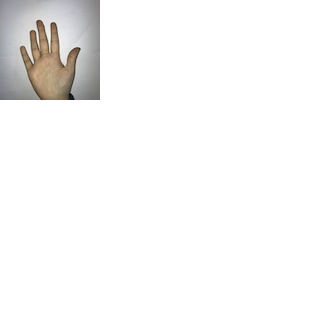paper: (17, 15, 80, 99)
